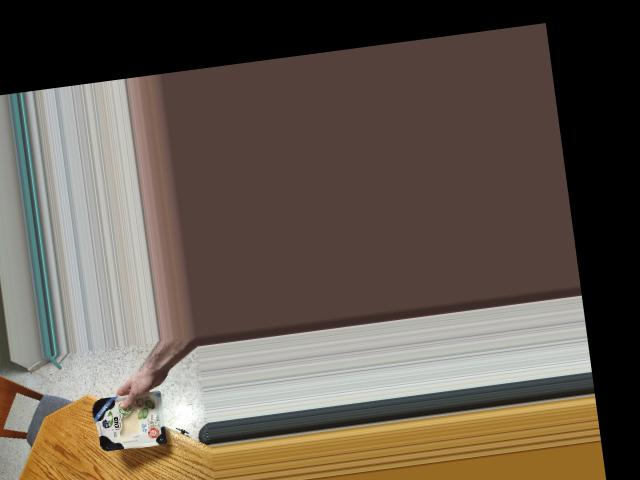cheese: (90, 385, 171, 452)
